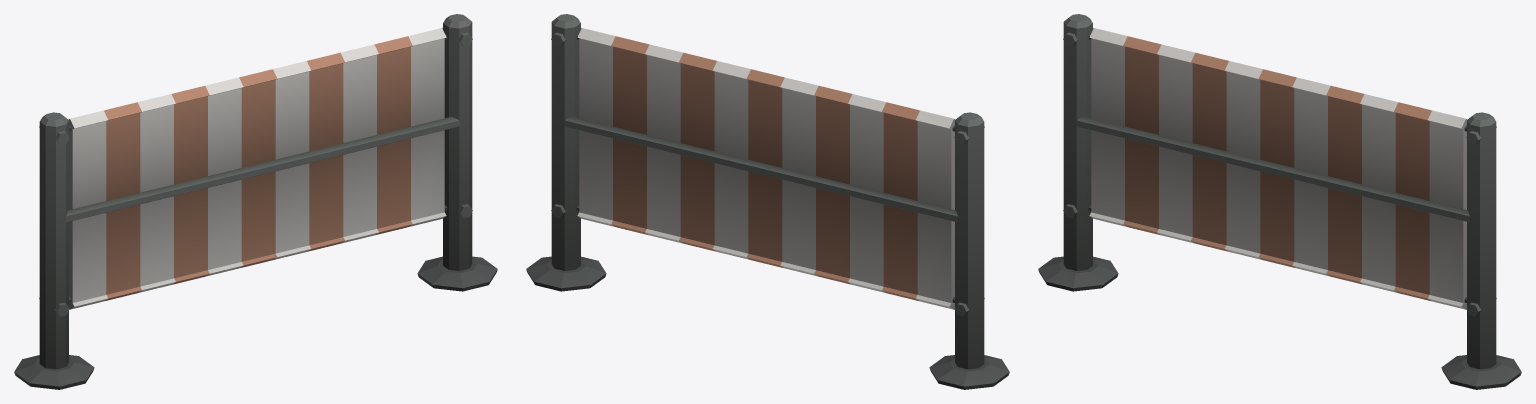
The model's file is fence.glb.
3 views of the same model, side by side, from view 1: azimuth 30°, elevation 25°; view 2: azimuth 150°, elevation 25°; view 3: azimuth 330°, elevation 25° (orthographic).
Visible parts, largest first — view 1: fence; view 2: fence; view 3: fence.
Boxes of the visible parts, box(x1,y1,x2,y2) form: fence: box(14, 14, 497, 389); fence: box(526, 14, 1009, 389); fence: box(1038, 14, 1521, 389).
Bounding box in the file's own units: 2 × 1.05 × 0.2772.
